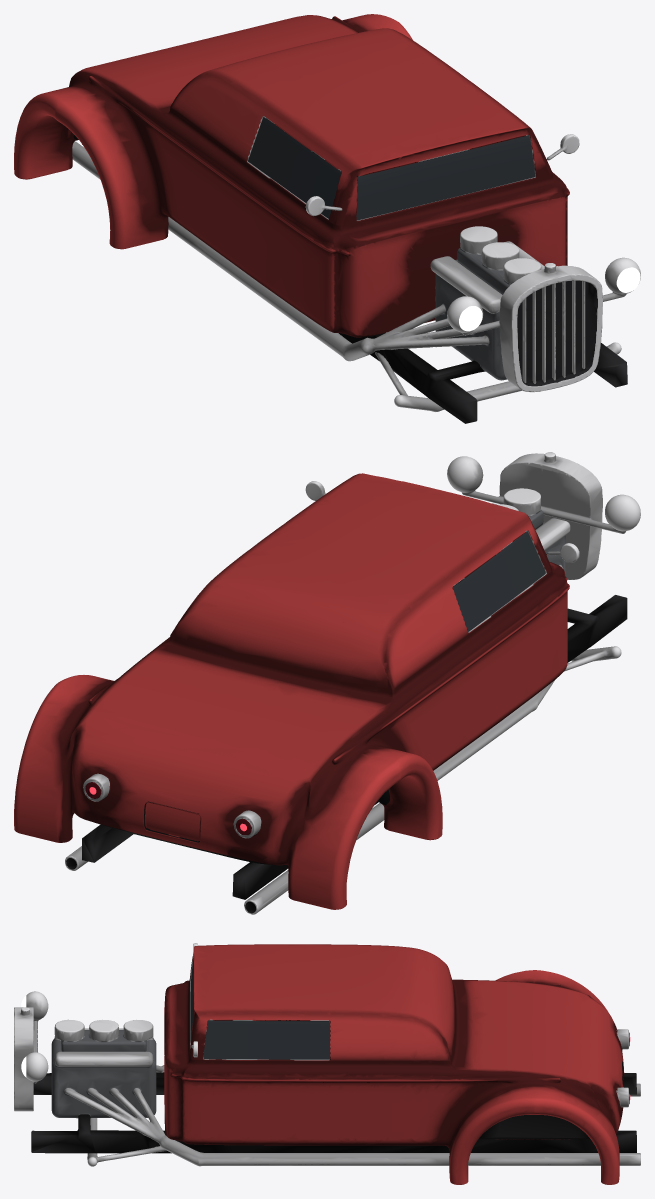
The model's file is deuce.glb.
3 views of the same model, one above another, from view 1: azimuth 30°, elevation 25°; view 2: azimuth 150°, elevation 25°; view 3: azimuth 270°, elevation 25° (orthographic). The views are drawn at different scales.
Parts seen in each view (by area): view 1: paint, chrome, window, grille, trim, head, lens; view 2: paint, chrome, trim, window; view 3: paint, chrome, trim, head, window.
Boxes of the visible parts, box(x1,y1,x2,y2) form: paint: box(14, 14, 569, 337); chrome: box(72, 116, 640, 411); window: box(248, 117, 535, 220); grille: box(517, 280, 597, 386); trim: box(73, 135, 627, 423); head: box(435, 247, 510, 380); lens: box(459, 267, 640, 331); paint: box(14, 473, 569, 909); chrome: box(65, 452, 640, 914); trim: box(82, 595, 627, 899); window: box(452, 531, 545, 631); paint: box(164, 944, 624, 1184); chrome: box(14, 943, 640, 1166); trim: box(31, 1061, 636, 1153); head: box(51, 1030, 156, 1118); window: box(190, 956, 329, 1059).
Size of what is drawn, in the model's own units: 1.93 by 1.08 by 3.83.
